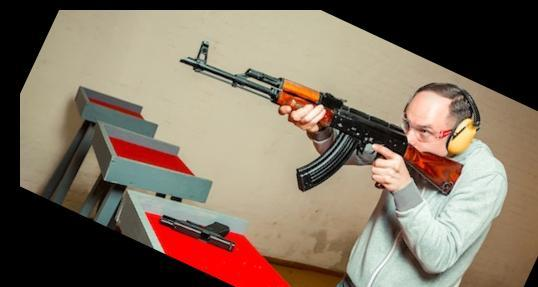larga: (180, 39, 466, 197)
